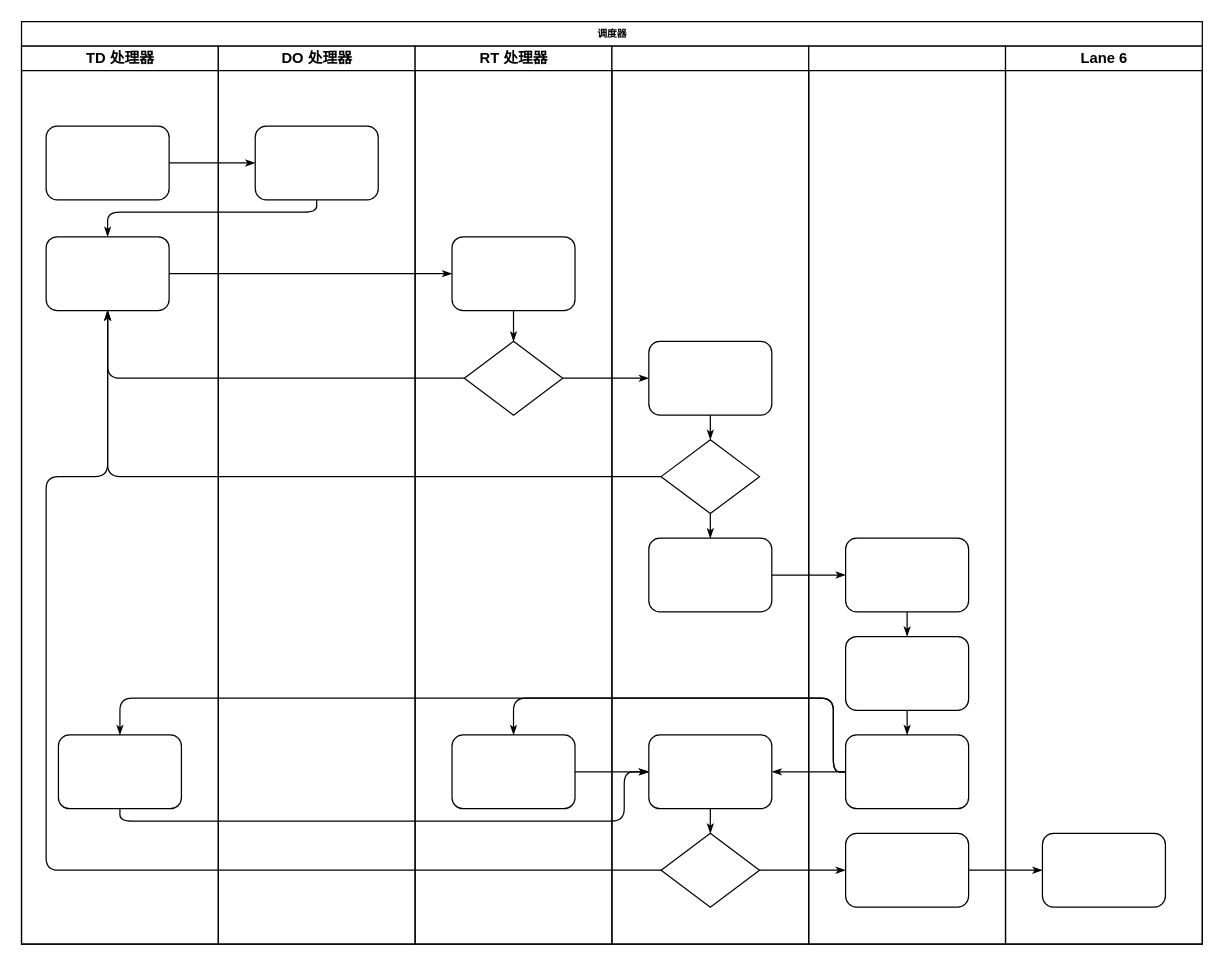
Some shapes in this 1224 by 966 pixel diagram are drawn without their labels. Here are the shapes that lost their labels. From the top down, the box of each, then its label:
(611, 45, 809, 944): 充电停车。。。。
(807, 45, 1006, 944): VehilcleController
